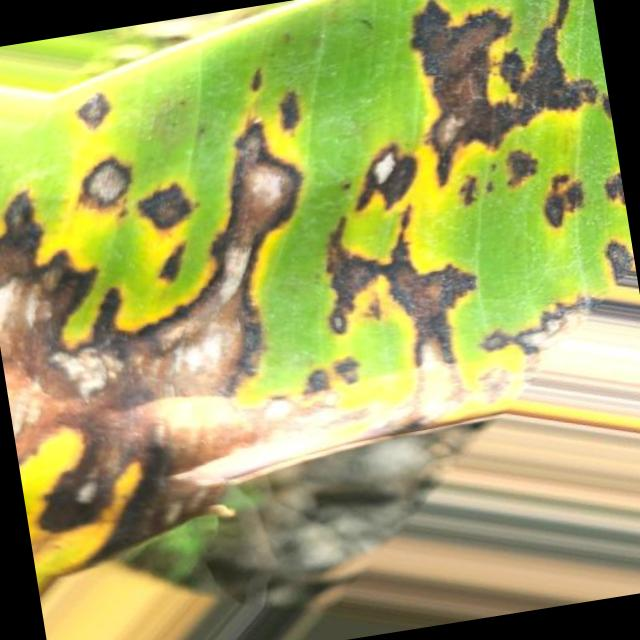Banana_Black_Sigatoka: (0, 109, 364, 600), (306, 0, 640, 380)
